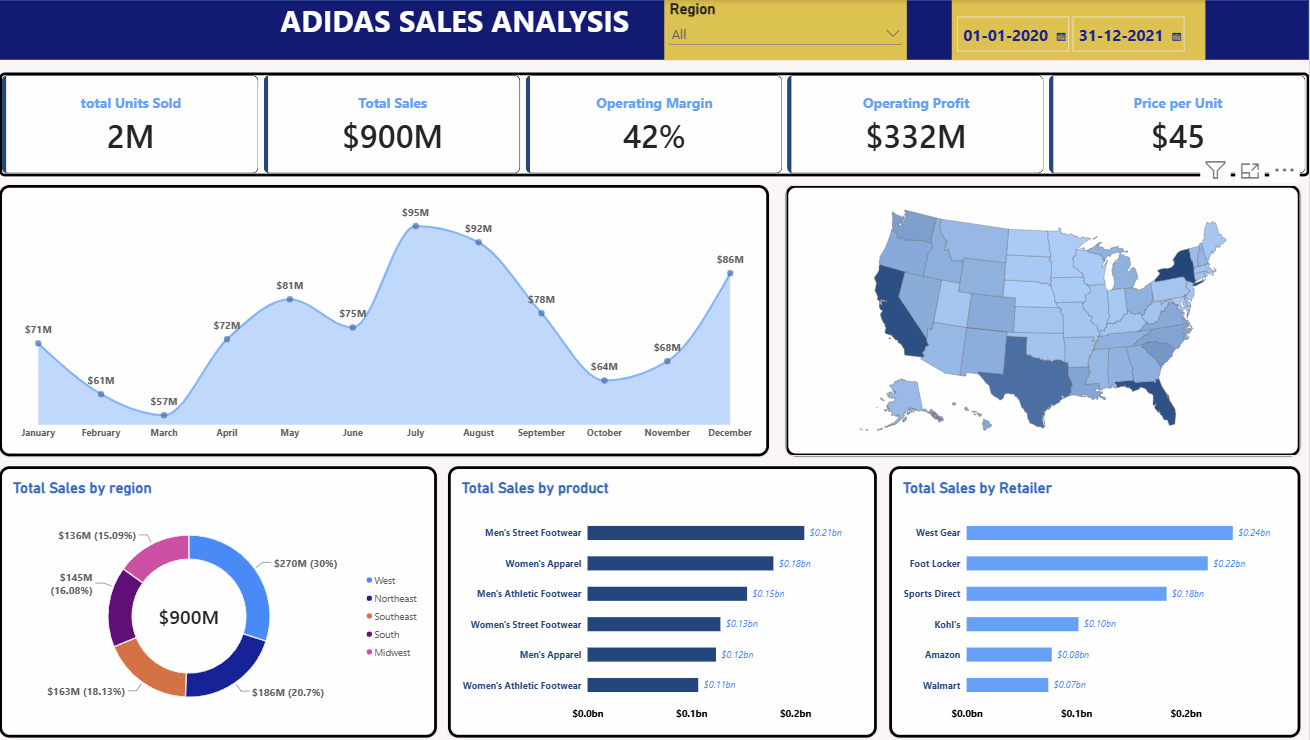

The page's visual inventory and layout, read from the dashboard file:
{"tool":"powerbi","page":{"name":"adidas sales analysis","canvas":[1920,1080],"ordinal":0},"visuals":[{"type":"shape","box":[23.5,0,1896.5,86.9],"z":0},{"type":"textbox","box":[430.7,0,528.4,70.6],"z":1000},{"type":"cardVisual","fields":{"Data":["Sum(Data Sales Adidas.Units Sold)","Sum(Data Sales Adidas.Total Sales)","Avg(Data Sales Adidas.Operating Margin)","Sum(Data Sales Adidas.Operating Profit)","Avg(Data Sales Adidas.Price per Unit)"]},"box":[23.5,105,1896.5,150.2],"z":2000},{"type":"areaChart","fields":{"Category":["Data Sales Adidas.Invoice Date.Variation.Date Hierarchy.Month"],"Y":["Sum(Data Sales Adidas.Total Sales)"]},"box":[23.5,267.8,1114.8,392.7],"z":3000},{"type":"shapeMap","title":"total sales by state","fields":{"Category":["Data Sales Adidas.State"],"Value":["Sum(Data Sales Adidas.Total Sales)"]},"box":[1161.8,267.8,745.6,392.7],"z":4000},{"type":"donutChart","title":"Total Sales by  region","fields":{"Category":["Data Sales Adidas.Region"],"Y":["Sum(Data Sales Adidas.Total Sales)"]},"box":[23.5,675,633.4,392.7],"z":5000},{"type":"barChart","title":"Total Sales by product","fields":{"Category":["Data Sales Adidas.Product"],"Y":["Sum(Data Sales Adidas.Total Sales)"]},"box":[673.2,675,620.7,392.7],"z":6000},{"type":"barChart","title":"Total Sales by Retailer","fields":{"Category":["Data Sales Adidas.Retailer"],"Y":["Sum(Data Sales Adidas.Total Sales)"]},"box":[1312,675,595.4,392.7],"z":7000},{"type":"slicer","fields":{"Values":["Data Sales Adidas.Region"]},"box":[986.3,0,351.1,86.9],"z":8000},{"type":"slicer","fields":{"Values":["Data Sales Adidas.Invoice Date"]},"box":[1402.5,0,367.4,86.9],"z":8001}]}

Visuals, with their boxes in screenshot pixels (x1, y1, x2, y2), scaled from the page's 1920x1080 canvas onto the 1310x740 screenshot:
shape: rect(16, 0, 1309, 60)
textbox: rect(294, 0, 654, 48)
cardVisual - Sum(Data Sales Adidas.Units Sold) x Sum(Data Sales Adidas.Total Sales): rect(16, 72, 1309, 175)
areaChart - Data Sales Adidas.Invoice Date.Variation.Date Hierarchy.Month x Sum(Data Sales Adidas.Total Sales): rect(16, 183, 777, 453)
"total sales by state" shapeMap: rect(793, 183, 1301, 453)
"Total Sales by  region" donutChart: rect(16, 463, 448, 732)
"Total Sales by product" barChart: rect(459, 463, 883, 732)
"Total Sales by Retailer" barChart: rect(895, 463, 1301, 732)
slicer - Data Sales Adidas.Region: rect(673, 0, 912, 60)
slicer - Data Sales Adidas.Invoice Date: rect(957, 0, 1208, 60)
